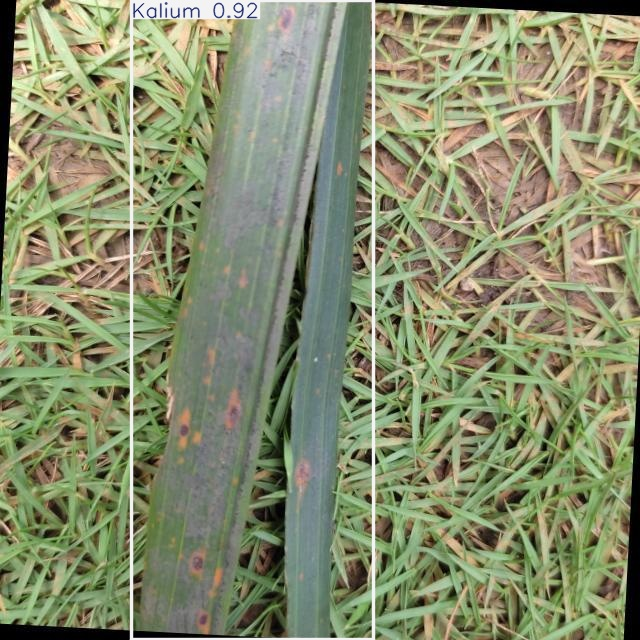Kalium: (131, 0, 373, 640)
